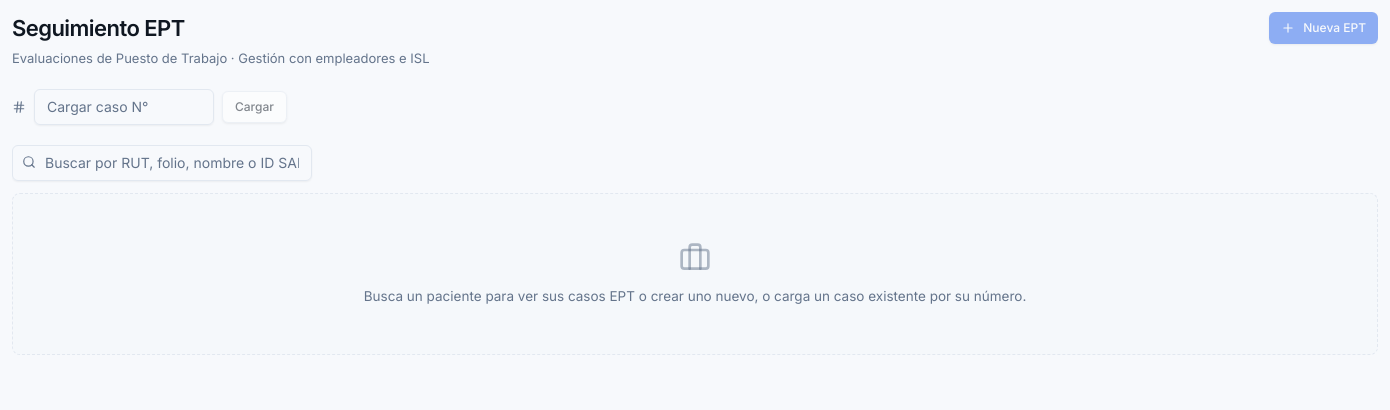
Test: EptPage › muestra empty state cuando el paciente no tiene ingresos
The width and height of the screenshot is (1390, 410).
Type "Juan" into the field with placeholder "Buscar por RUT, folio, nombre o ID SALUTEM" at (162, 162), box [12,144,312,180]
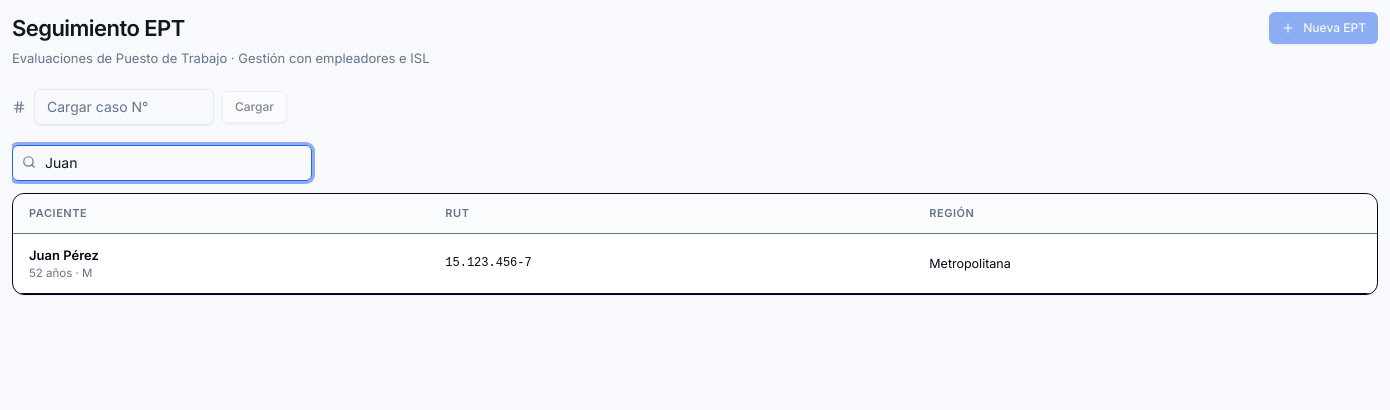
Result: the text "Juan Pérez" is shown
Click the text "Juan Pérez" at (64, 255), box [29,247,99,263]
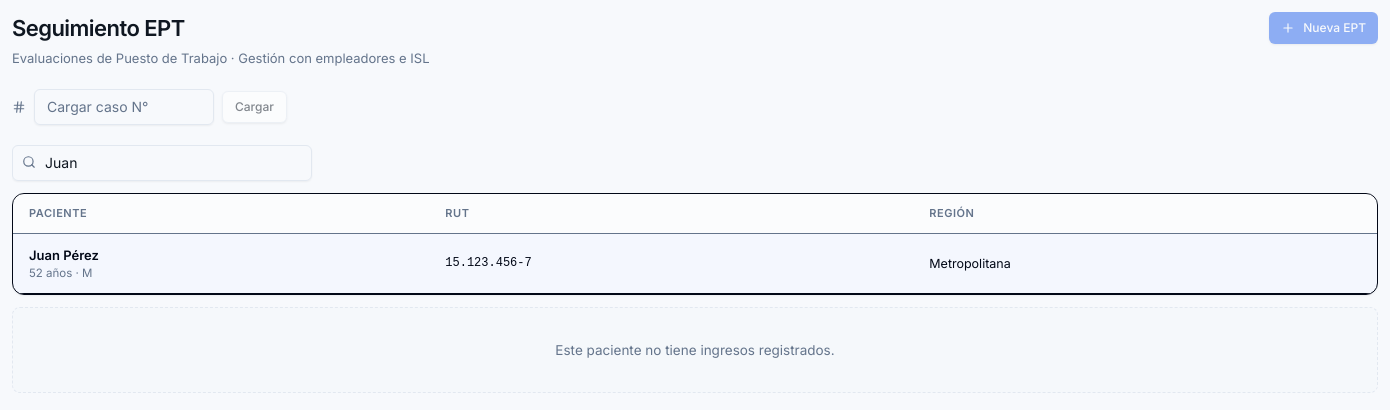
Result: the text "Este paciente no tiene ingresos registrados." is shown at [555,342,835,358]
